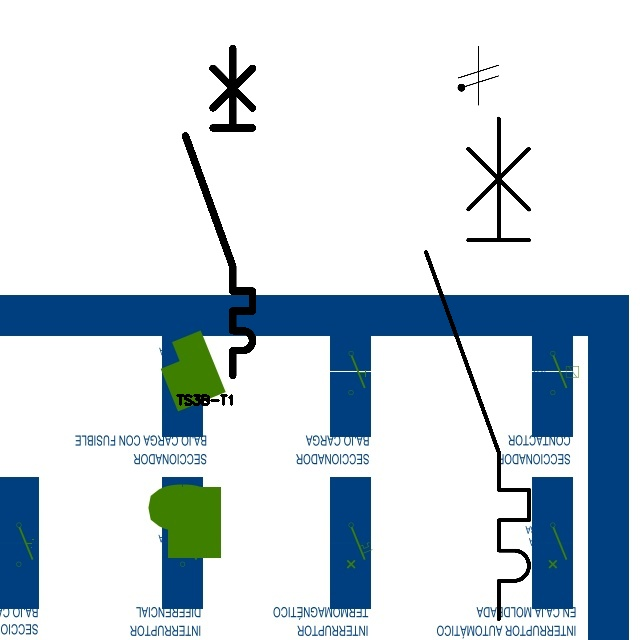interruptor_termomagnetico: (413, 105, 542, 631), (177, 40, 261, 384)
